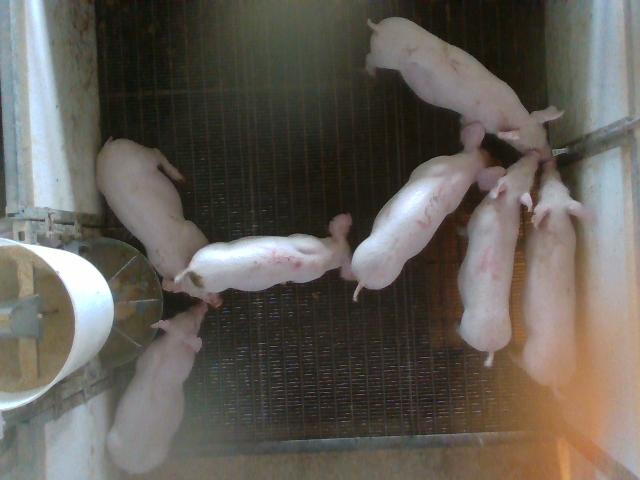pig-3: (351, 122, 506, 299)
pig-4: (458, 152, 539, 366)
pig-5: (185, 214, 352, 292)
